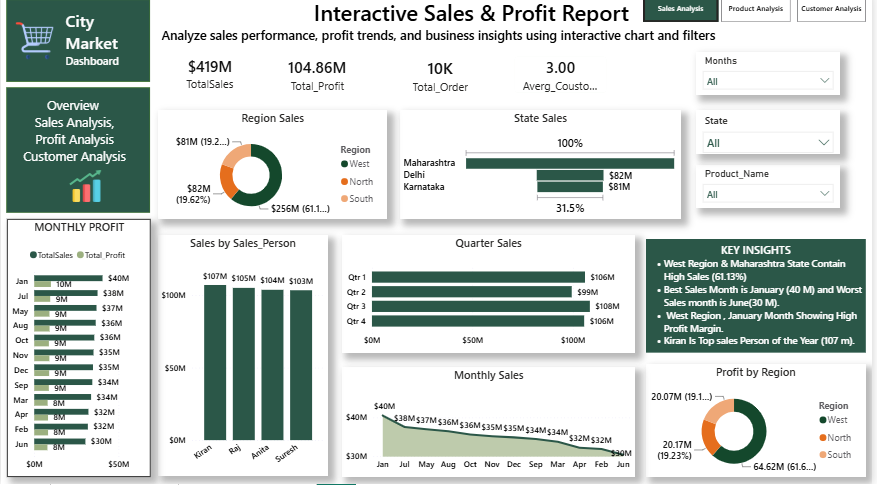

Layout of this report page (visuals, bound fields, positions):
{"tool":"powerbi","page":{"name":"Sales Analysis","canvas":[1280,720],"ordinal":0},"visuals":[{"type":"shape","box":[0,0,219.2,129.1],"z":0},{"type":"shape","box":[0,129.1,219.2,192.4],"z":1},{"type":"textbox","box":[231.4,0,920.7,82.8],"z":2},{"type":"textbox","box":[90.1,18.3,107.2,110.8],"z":3},{"type":"image","box":[8.5,41.4,81.6,54.8],"z":4},{"type":"textbox","box":[19.5,146.1,177.8,112],"z":5},{"type":"image","box":[58.5,258.2,130.3,47.5],"z":6},{"type":"slicer","fields":{"Values":["Sales_Data.Product_Name"]},"box":[1020.6,250.9,211.9,63.3],"z":8},{"type":"slicer","fields":{"Values":["Sales_Data.Months"]},"box":[1020.6,85.3,211.9,63.3],"z":9},{"type":"slicer","fields":{"Values":["Sales_Data.State"]},"box":[1020.6,170.5,211.9,64.5],"z":10},{"type":"clusteredBarChart","title":"MONTHLY PROFIT","fields":{"Category":["Sales_Data.Months"],"Y":["TotalSales.TotalSales","TotalSales.Total_Profit"]},"box":[8.5,330,210.7,378.8],"z":11},{"type":"lineChart","title":"Monthly Sales","fields":{"Category":["Sales_Data.Months"],"Y":["TotalSales.TotalSales"]},"box":[501.8,548,431.1,160.8],"z":12},{"type":"funnel","title":"State Sales","fields":{"Category":["Sales_Data.State"],"Y":["TotalSales.TotalSales"]},"box":[585.8,170.5,412.9,159.5],"z":13},{"type":"barChart","title":" Quarter Sales ","fields":{"Category":["Sales_Data.Order_Date.Variation.Date Hierarchy.Quarter"],"Y":["TotalSales.TotalSales"]},"box":[501.8,354.4,431.1,172.9],"z":14},{"type":"donutChart","title":"Region Sales","fields":{"Category":["Sales_Data.Region"],"Y":["TotalSales.TotalSales"]},"box":[231.4,170.5,337.4,159.5],"z":15},{"type":"donutChart","title":"Profit by Region","fields":{"Category":["Sales_Data.Region"],"Y":["TotalSales.Total_Profit"]},"box":[947.5,543.2,322.7,165.6],"z":16},{"type":"cardVisual","fields":{"Data":["TotalSales.TotalSales"]},"box":[231.4,73.1,152.2,87.7],"z":17},{"type":"cardVisual","fields":{"Data":["TotalSales.Total_Profit"]},"box":[386.1,74.3,157.1,87.7],"z":18},{"type":"cardVisual","fields":{"Data":["TotalSales.Total_Order"]},"box":[554.1,74.3,183.9,87.7],"z":19},{"type":"cardVisual","fields":{"Data":["TotalSales.Averg_Coustomer Rating"]},"box":[738,74.3,169.3,87.7],"z":20},{"type":"columnChart","title":"Sales by Sales_Person","fields":{"Category":["Sales_Data.Sales_Person"],"Y":["TotalSales.TotalSales"]},"box":[231.4,354.4,249.7,354.4],"z":21},{"type":"textbox","box":[947.5,360.5,322.7,166.9],"z":23},{"type":"actionButton","box":[942.6,0,110.8,41.4],"z":24},{"type":"actionButton","box":[1058.3,0,102.3,41.4],"z":25},{"type":"actionButton","box":[1169.2,0,101.1,41.4],"z":26}]}

Visuals, with their boxes in screenshot pixels (x1, y1, x2, y2), scaled from the page's 1280x720 canvas onto the 877x485 screenshot:
shape: bbox(0, 0, 150, 87)
shape: bbox(0, 87, 150, 217)
textbox: bbox(159, 0, 789, 56)
textbox: bbox(62, 12, 135, 87)
image: bbox(6, 28, 62, 65)
textbox: bbox(13, 98, 135, 174)
image: bbox(40, 174, 129, 206)
slicer - Sales_Data.Product_Name: bbox(699, 169, 844, 212)
slicer - Sales_Data.Months: bbox(699, 57, 844, 100)
slicer - Sales_Data.State: bbox(699, 115, 844, 158)
"MONTHLY PROFIT" clusteredBarChart: bbox(6, 222, 150, 477)
"Monthly Sales" lineChart: bbox(344, 369, 639, 477)
"State Sales" funnel: bbox(401, 115, 684, 222)
" Quarter Sales " barChart: bbox(344, 239, 639, 355)
"Region Sales" donutChart: bbox(159, 115, 390, 222)
"Profit by Region" donutChart: bbox(649, 366, 870, 477)
cardVisual - TotalSales.TotalSales: bbox(159, 49, 263, 108)
cardVisual - TotalSales.Total_Profit: bbox(265, 50, 372, 109)
cardVisual - TotalSales.Total_Order: bbox(380, 50, 506, 109)
cardVisual - TotalSales.Averg_Coustomer Rating: bbox(506, 50, 622, 109)
"Sales by Sales_Person" columnChart: bbox(159, 239, 330, 477)
textbox: bbox(649, 243, 870, 355)
actionButton: bbox(646, 0, 722, 28)
actionButton: bbox(725, 0, 795, 28)
actionButton: bbox(801, 0, 870, 28)
